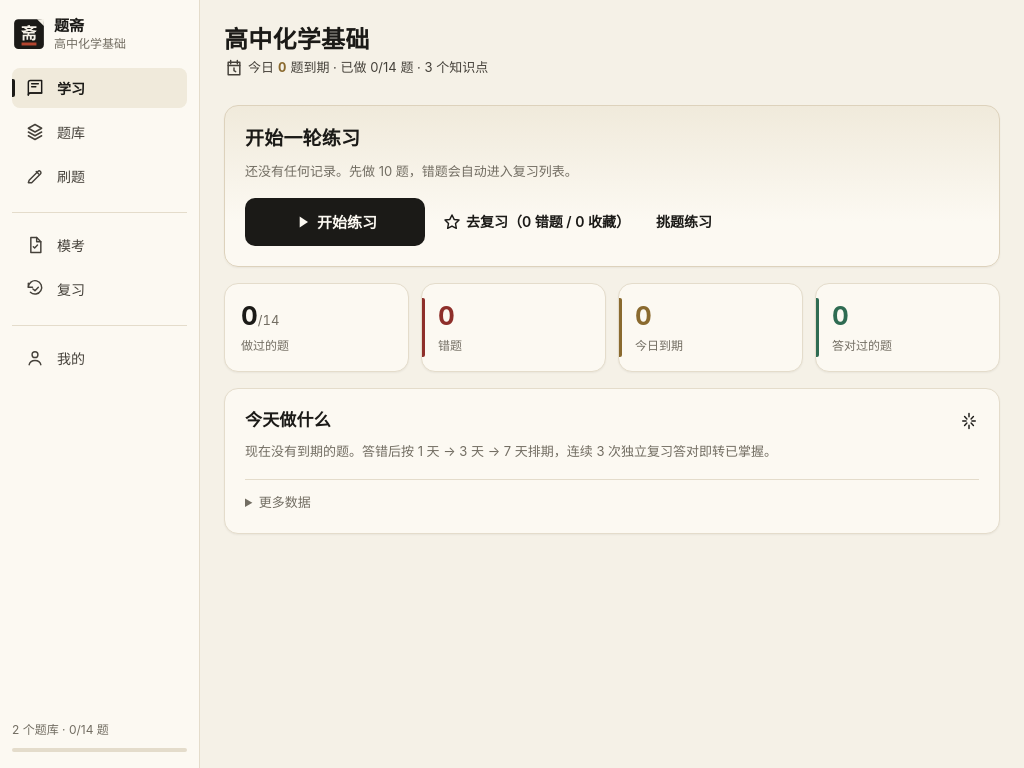
Test: 六入口 › 新用户看到的是引导而不是白屏
Expected: the text "还没有任何记录。先做 10 题，错题会自动进入复习列表。" is shown, [245,163,578,179]
Click the button "复习": (100, 289) [12,269,187,309]
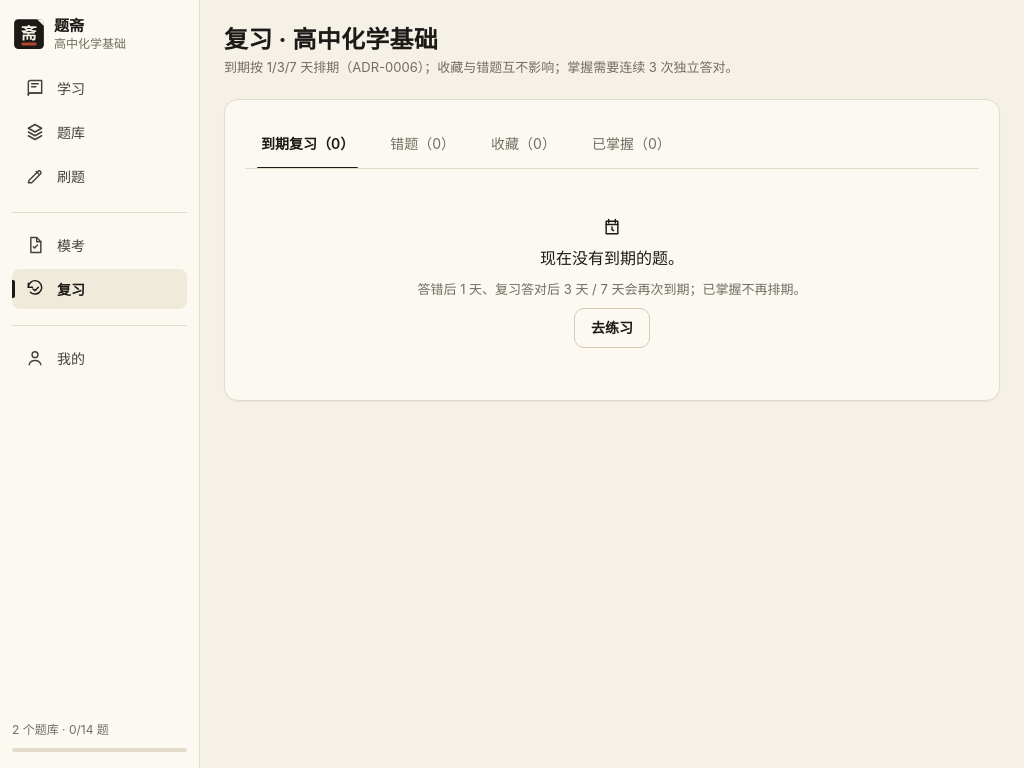
Expected: the text "现在没有到期的题。" is shown, [540,245,684,271]
Click the tab "错题（0）": (423, 144) [374,120,471,168]
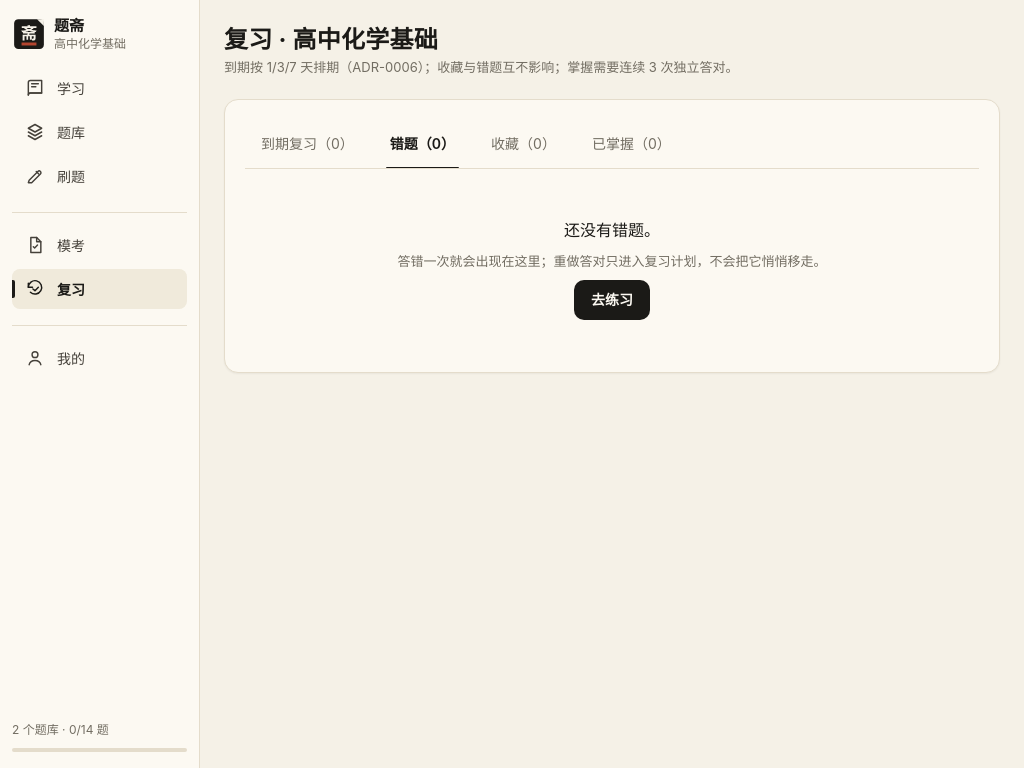
Expected: the text "还没有错题。" is shown, [564,217,660,243]
Click the tab "收藏（0）": (524, 144) [475,120,572,168]
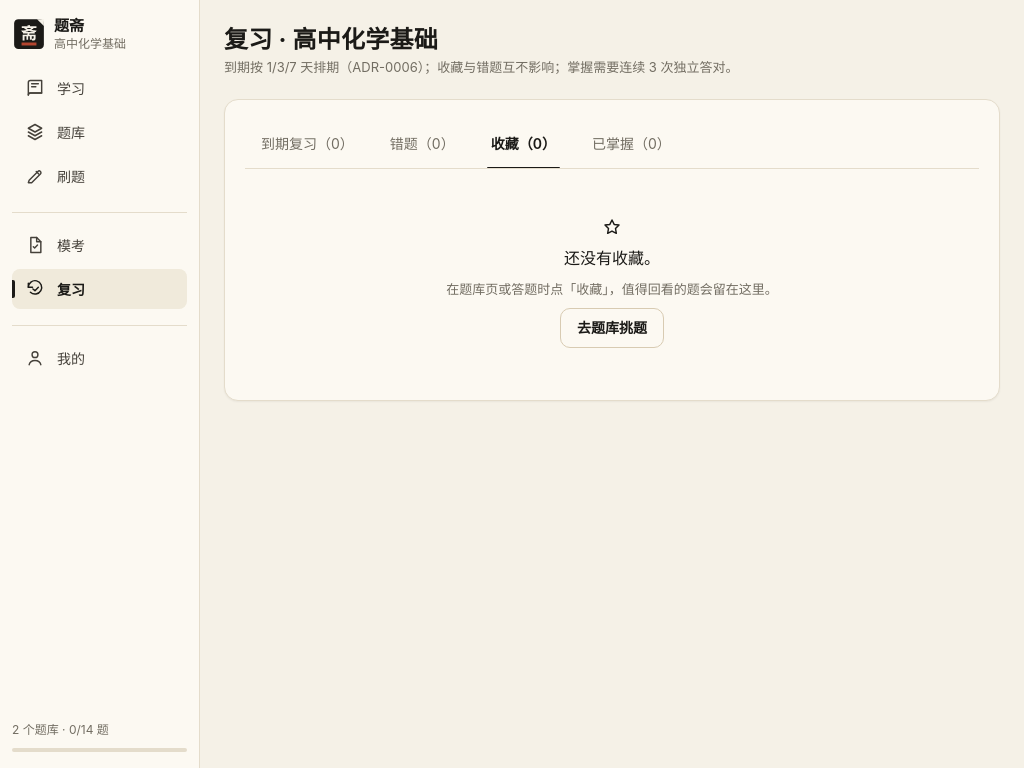
Expected: the text "还没有收藏。" is shown, [564,245,660,271]
